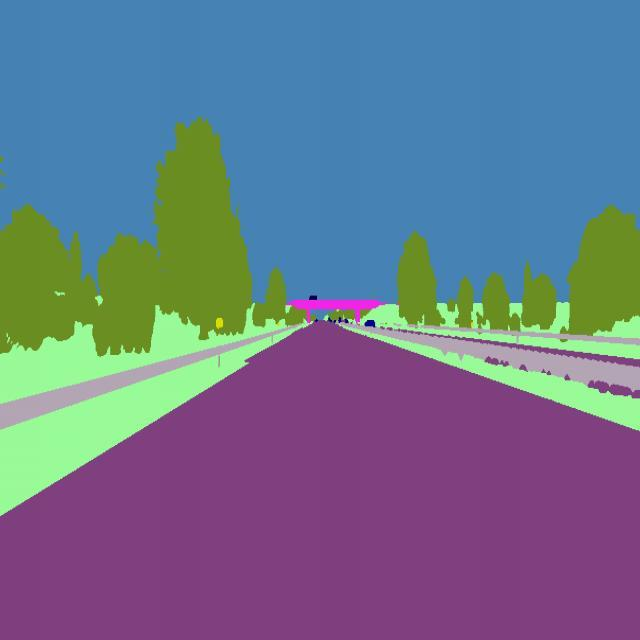safe: (363, 316, 378, 333), (308, 292, 318, 304)
